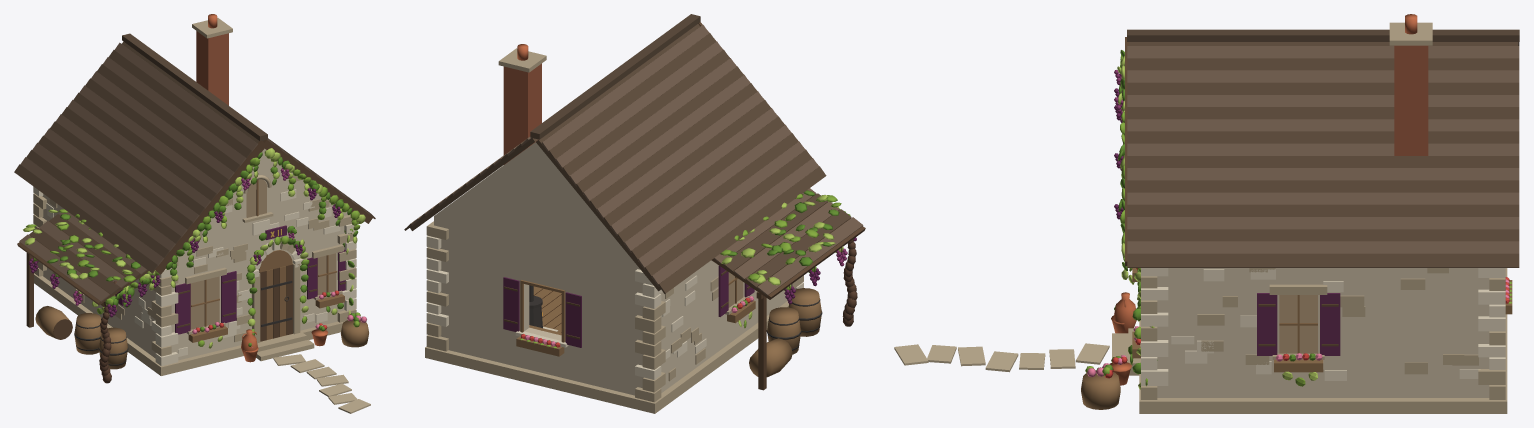
The model's file is dionysus_cabin.glb.
3 renders of one model, left to right at view 1: azimuth 30°, elevation 25°; view 2: azimuth 150°, elevation 25°; view 3: azimuth 270°, elevation 25°, orthographic. The views are drawn at different scales.
Visible parts, largest first — view 1: DIO_shingle_b, DIO_shingle_a, DIO_stone_dark, DIO_shell_stone, DIO_wood, DIO_stone_light, DIO_wood_dark, DIO_grape_leaf_dark, DIO_stone, DIO_window, DIO_grape_leaf, DIO_grape_leaf_light (+7 smaller); view 2: DIO_shingle_b, DIO_shell_stone, DIO_shingle_a, DIO_stone, DIO_stone_dark, DIO_wood, DIO_stone_light, DIO_brick, DIO_wood_dark, DIO_shell_plum, DIO_window_left, DIO_shell_wood (+6 smaller); view 3: DIO_shingle_b, DIO_shingle_a, DIO_shell_stone, DIO_stone_dark, DIO_window_right, DIO_stone_light, DIO_brick, DIO_path, DIO_wood, DIO_terracotta, DIO_grape_leaf_dark, DIO_wood_dark (+1 smaller).
Boxes of the visible parts, bbox=[...] form: DIO_shingle_b: bbox=[14, 33, 375, 294]; DIO_shingle_a: bbox=[19, 42, 369, 301]; DIO_stone_dark: bbox=[33, 18, 356, 375]; DIO_shell_stone: bbox=[42, 194, 347, 360]; DIO_wood: bbox=[35, 179, 368, 369]; DIO_stone_light: bbox=[33, 186, 356, 366]; DIO_wood_dark: bbox=[17, 139, 373, 339]; DIO_grape_leaf_dark: bbox=[46, 152, 358, 346]; DIO_stone: bbox=[193, 148, 336, 243]; DIO_window: bbox=[190, 179, 336, 329]; DIO_grape_leaf: bbox=[26, 157, 360, 346]; DIO_grape_leaf_light: bbox=[23, 148, 365, 348]; DIO_shingle_b: bbox=[404, 14, 851, 293]; DIO_shell_stone: bbox=[434, 166, 787, 395]; DIO_shingle_a: bbox=[411, 25, 863, 295]; DIO_stone: bbox=[434, 142, 636, 265]; DIO_stone_dark: bbox=[425, 48, 803, 413]; DIO_wood: bbox=[749, 288, 821, 377]; DIO_stone_light: bbox=[426, 236, 803, 379]; DIO_brick: bbox=[503, 63, 541, 164]; DIO_wood_dark: bbox=[698, 22, 865, 390]; DIO_shell_plum: bbox=[503, 277, 581, 347]; DIO_window_left: bbox=[718, 265, 755, 328]; DIO_shell_wood: bbox=[516, 280, 565, 356]; DIO_shingle_b: bbox=[1127, 29, 1519, 267]; DIO_shingle_a: bbox=[1127, 42, 1519, 253]; DIO_shell_stone: bbox=[1157, 268, 1489, 397]; DIO_stone_dark: bbox=[1112, 22, 1507, 413]; DIO_window_right: bbox=[1257, 284, 1340, 386]; DIO_stone_light: bbox=[1141, 268, 1505, 385]; DIO_brick: bbox=[1394, 45, 1428, 155]; DIO_path: bbox=[894, 343, 1109, 372]; DIO_wood: bbox=[1081, 268, 1140, 409]; DIO_terracotta: bbox=[1110, 14, 1417, 385]; DIO_grape_leaf_dark: bbox=[1096, 50, 1157, 375]; DIO_wood_dark: bbox=[1125, 37, 1129, 266].
Size of what is drawn, in the model's own units: 8.15 by 7.35 by 11.39.
